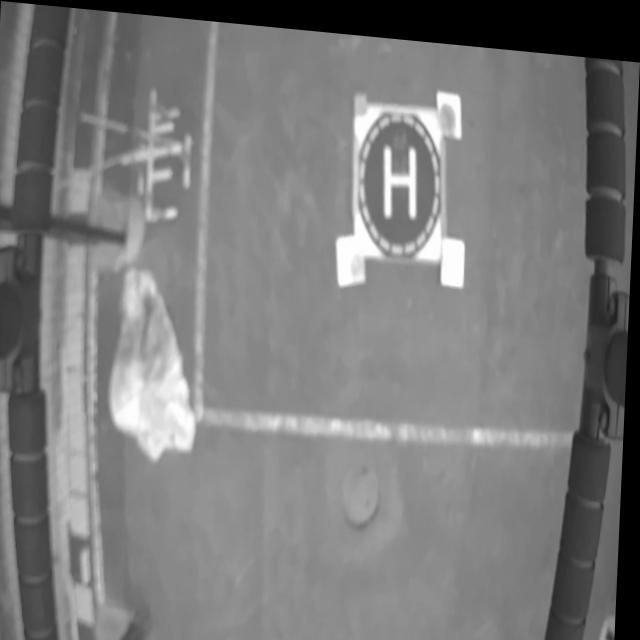Helipad: (383, 136, 417, 210)
